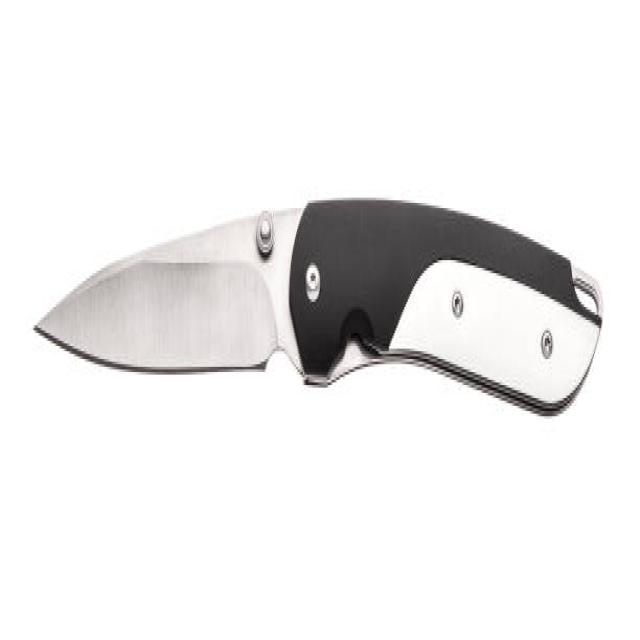knife: (30, 185, 607, 447)
